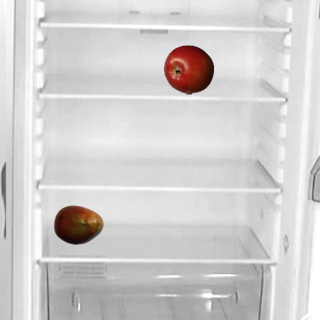Apple Braeburn: (163, 44, 213, 94)
Mango Red: (53, 199, 103, 249)
